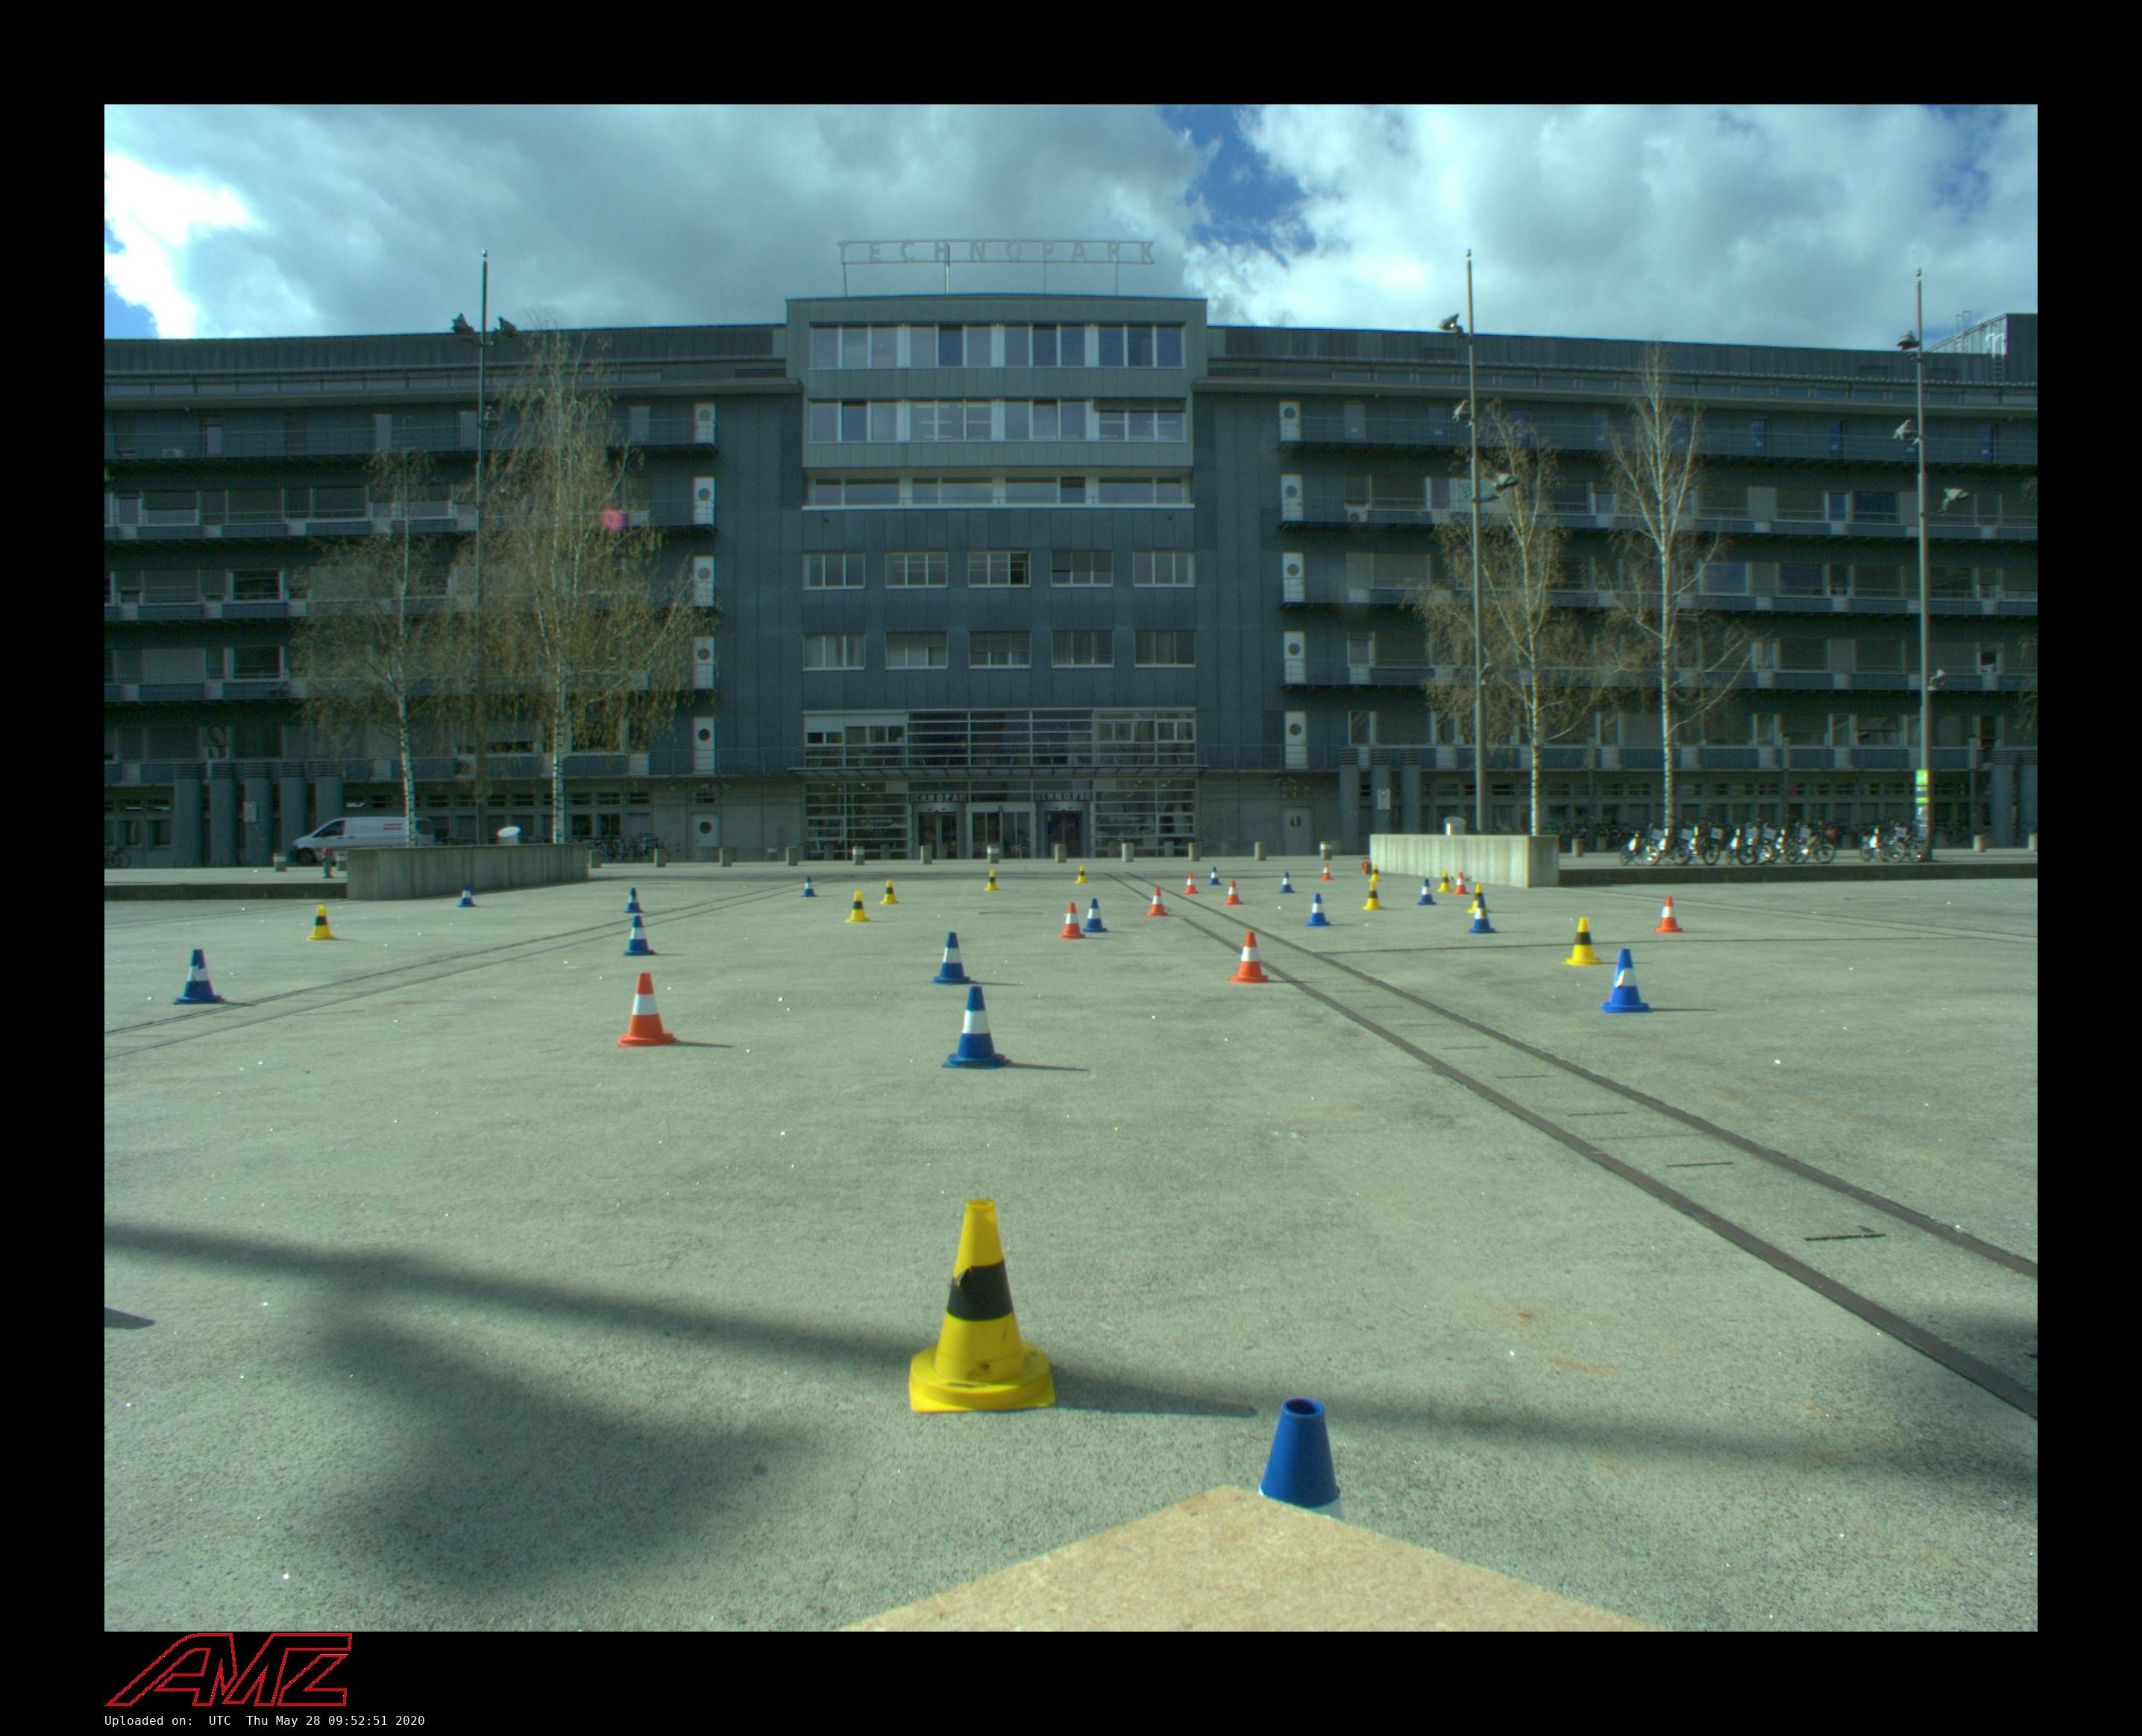blue_cone: (939, 987, 1012, 1070), (1600, 948, 1651, 1015), (174, 948, 227, 1004), (927, 932, 978, 985), (624, 916, 656, 957), (1465, 896, 1497, 934), (1302, 893, 1334, 925), (1083, 898, 1109, 934), (624, 887, 643, 914), (1417, 879, 1437, 905), (457, 884, 477, 907), (801, 877, 819, 896), (1279, 872, 1295, 893), (1208, 866, 1222, 886)
orange_cone: (618, 973, 675, 1047), (1228, 932, 1274, 983), (1056, 902, 1086, 939), (1655, 896, 1685, 934), (1146, 887, 1169, 916), (1224, 879, 1244, 905), (1453, 872, 1469, 895), (1184, 872, 1199, 893), (1320, 863, 1334, 880)
yellow_cone: (909, 1197, 1058, 1410), (1561, 916, 1603, 967), (307, 905, 338, 941), (845, 891, 872, 923), (1467, 882, 1492, 912), (1362, 882, 1385, 911), (879, 880, 900, 905), (983, 870, 1001, 891), (1437, 870, 1453, 891), (1368, 863, 1384, 882), (1075, 864, 1088, 884)
